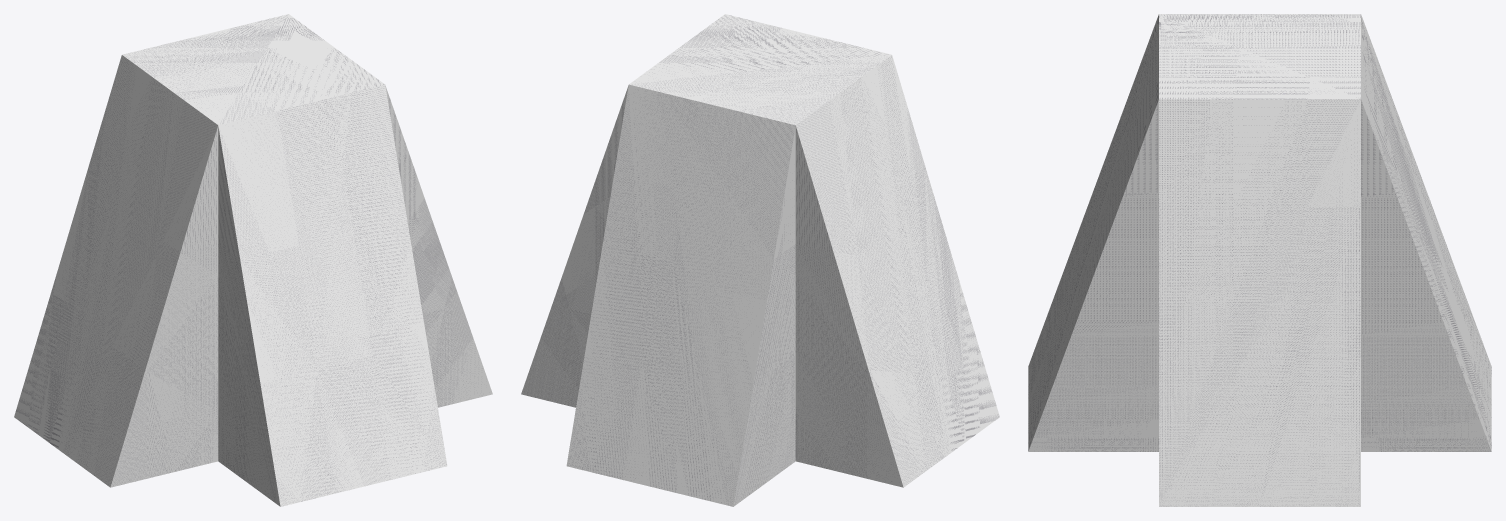
The model's file is Pedestral.dae.
3 renders of one model, left to right at view 1: azimuth 30°, elevation 25°; view 2: azimuth 150°, elevation 25°; view 3: azimuth 270°, elevation 25°, orthographic. The views are drawn at different scales.
Parts seen in each view (by area): view 1: group_0; view 2: group_0; view 3: group_0.
Part boxes in pixels (box(x1,y1,x2,y2)): group_0: box(14, 14, 492, 506); group_0: box(521, 14, 999, 506); group_0: box(1028, 14, 1491, 506).
Bounding box in the file's own units: 309 × 309 × 259.
3 materials, 1 textured.
